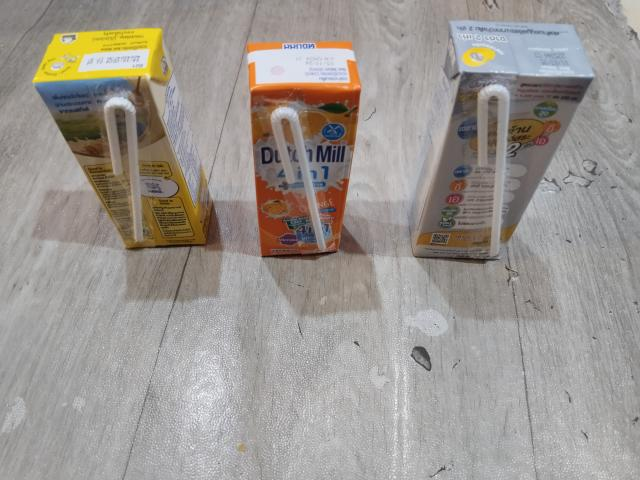drink_box: (398, 13, 608, 270), (29, 21, 219, 256), (237, 36, 357, 263)
